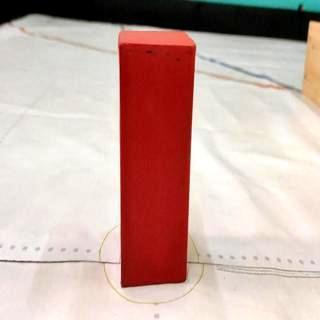redbox: (118, 30, 196, 286)
